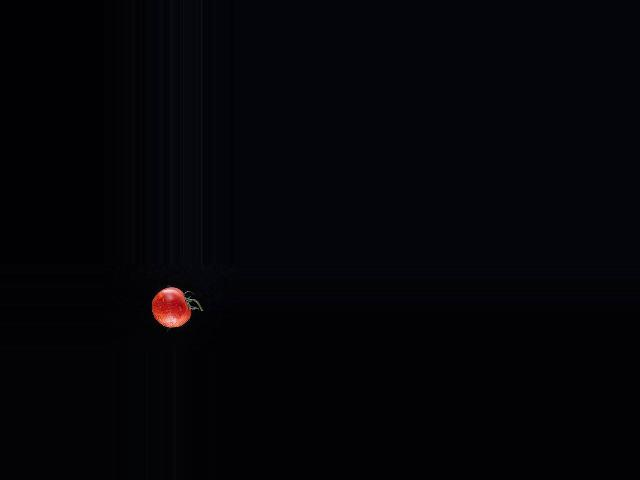tomato: (151, 287, 191, 328)
